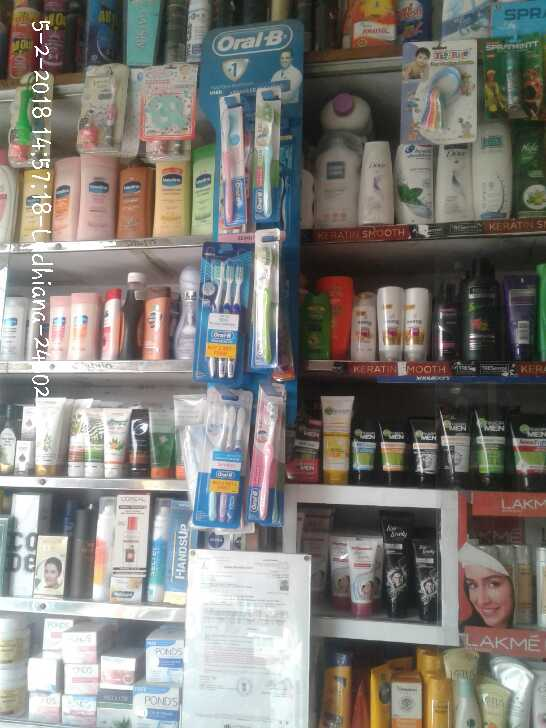beauty: (398, 135, 437, 231), (375, 283, 404, 368), (342, 292, 377, 360), (405, 288, 432, 367)
pharmacy: (202, 393, 242, 527), (205, 251, 243, 384), (248, 95, 284, 219), (213, 93, 246, 224), (253, 382, 282, 522), (256, 244, 273, 364)
